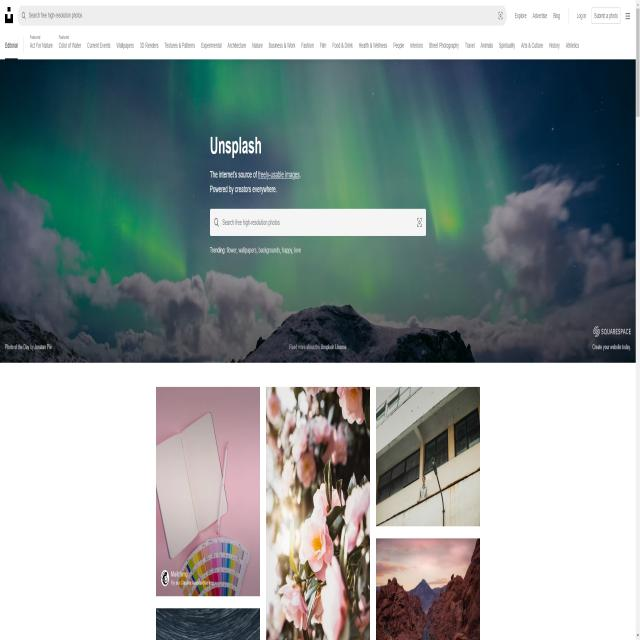menu-bar: (514, 9, 632, 29)
search: (18, 6, 509, 29), (208, 205, 430, 237)
tab-bar: (1, 32, 584, 56)
